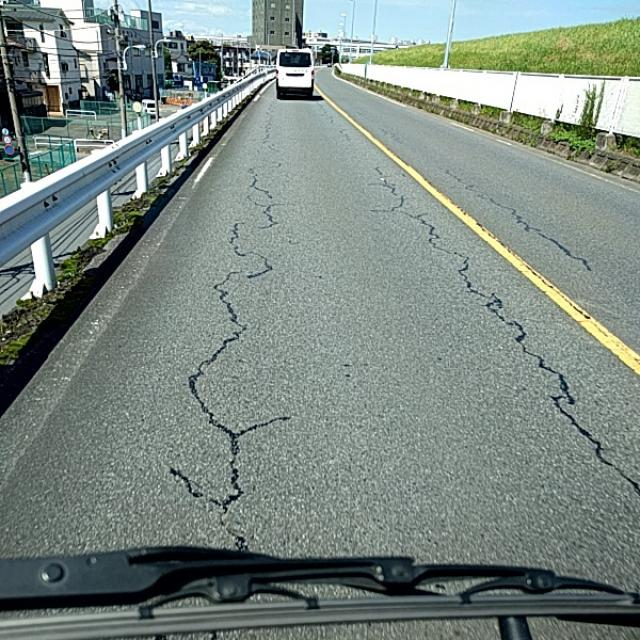pothole: (194, 308, 624, 494)
